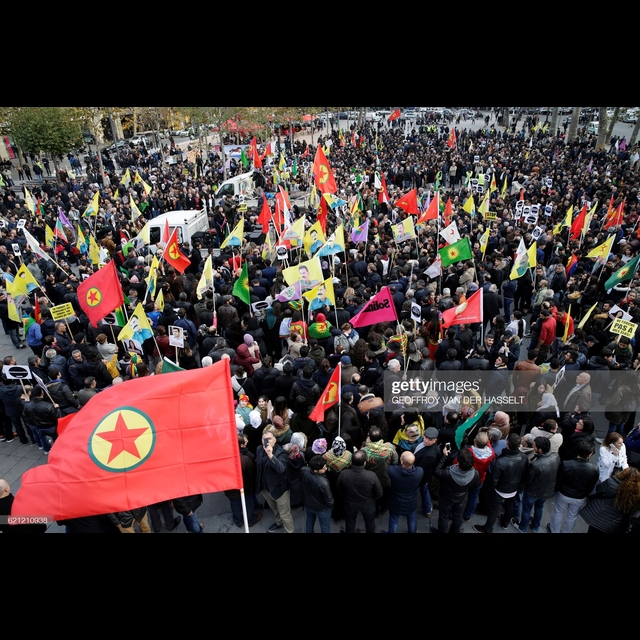APO: (298, 261, 312, 287)
KCK: (445, 244, 462, 263)
PKK: (86, 401, 162, 482), (82, 286, 109, 308)
